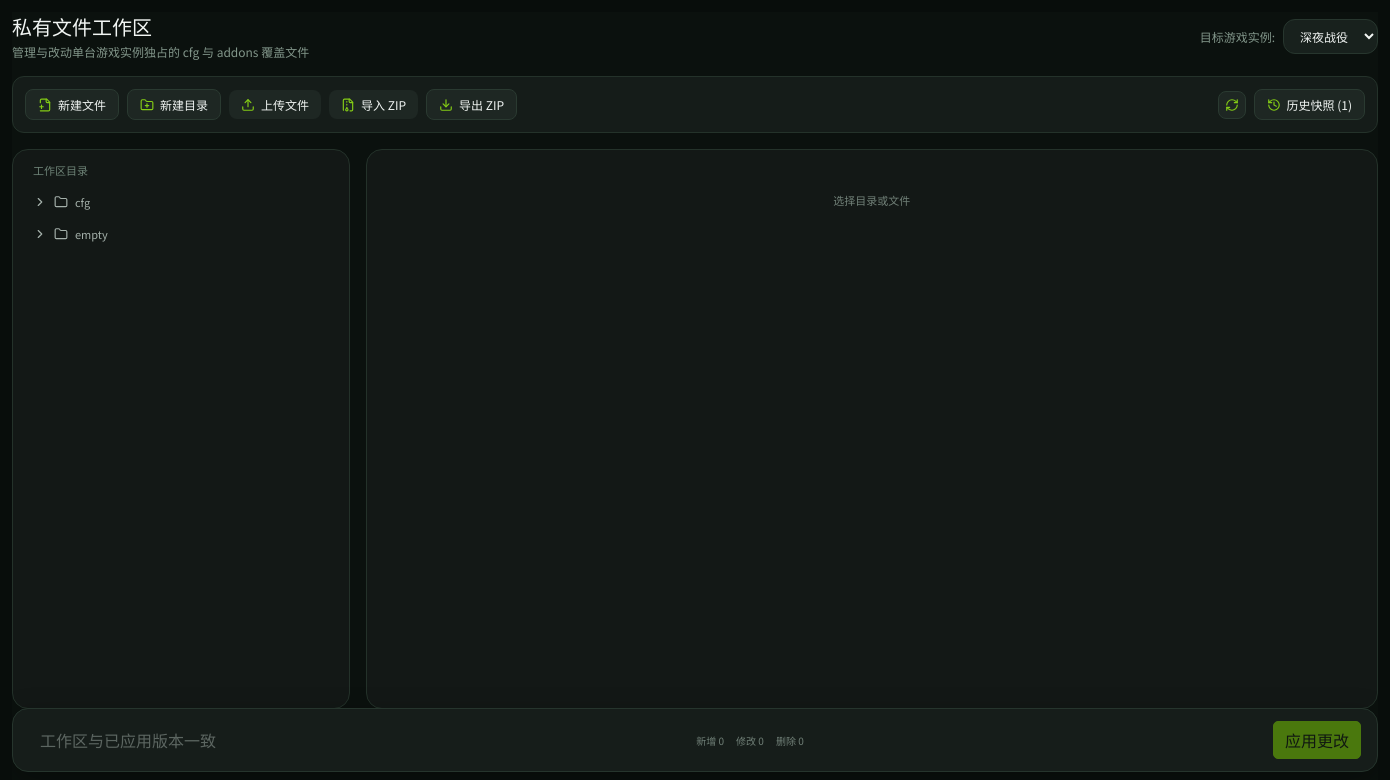
PrivateFilesPage › exports the selected workspace as a ZIP download
Click the button "导出 ZIP": (472,104) [426, 89, 517, 120]
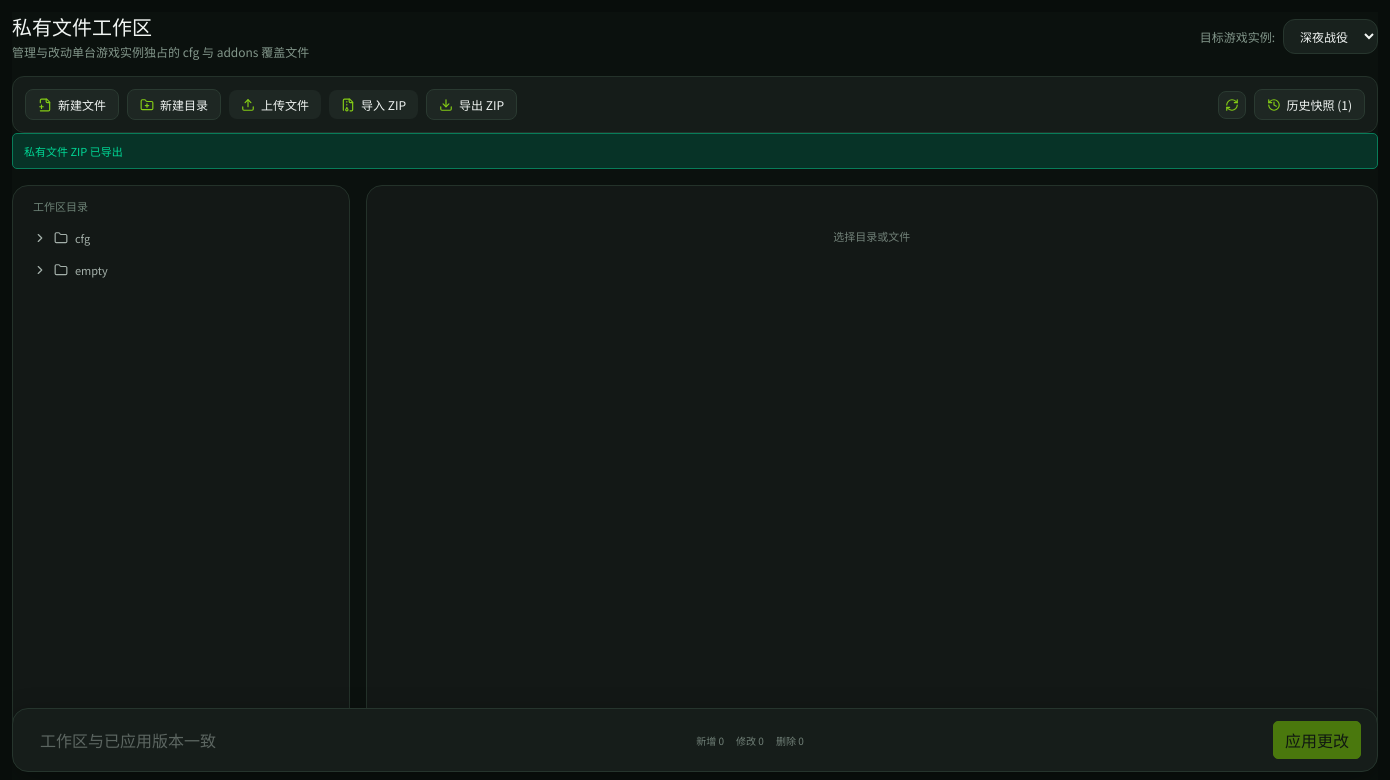
Now the text "私有文件 ZIP 已导出" is shown, box [12, 133, 1378, 169]
